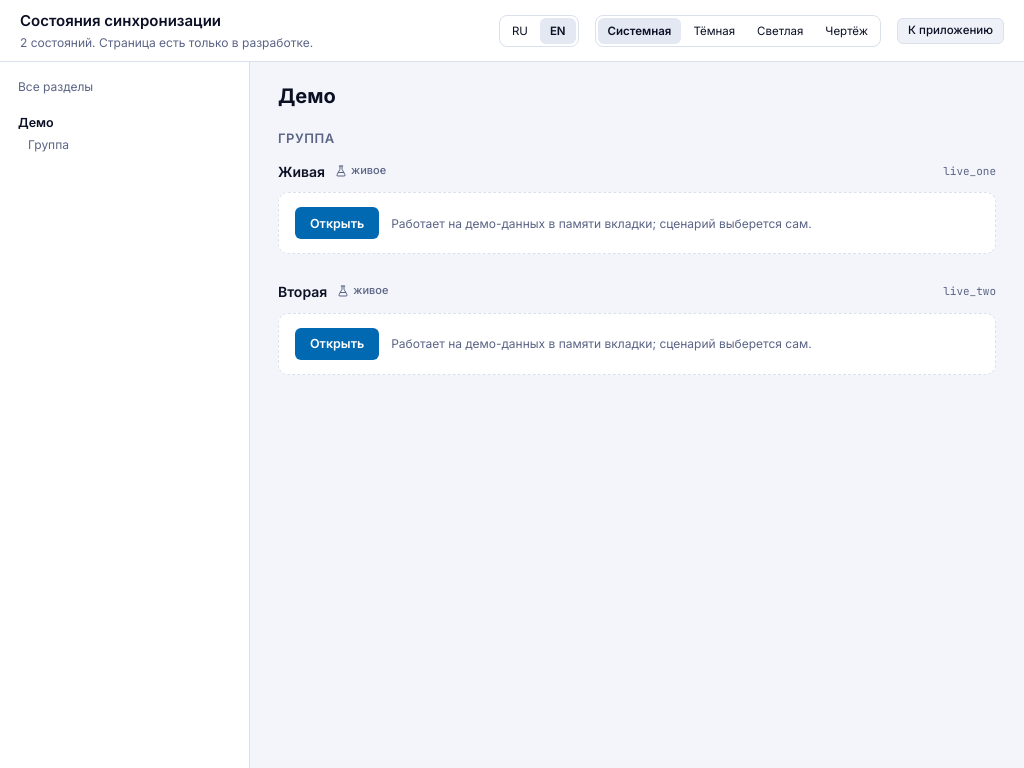
Test case: галерея состояний синхронизации › открывает живую запись по нажатию и ставит демо-сценарий
Expected: the text "Содержимое живой записи" is not shown
Click the button "Открыть" below "Живая": [337, 223] box [295,207,379,239]
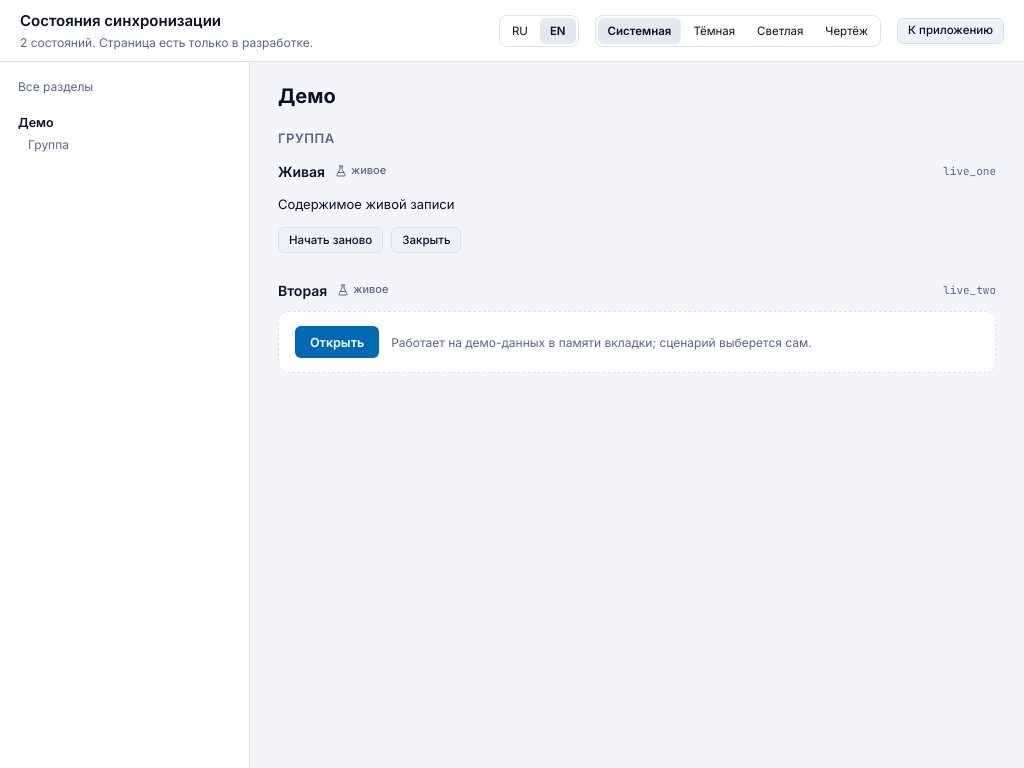
Now the text "Содержимое живой записи" is shown, box [278,196,454,212]
Click the button "Открыть": [337, 342] box [295,326,379,358]
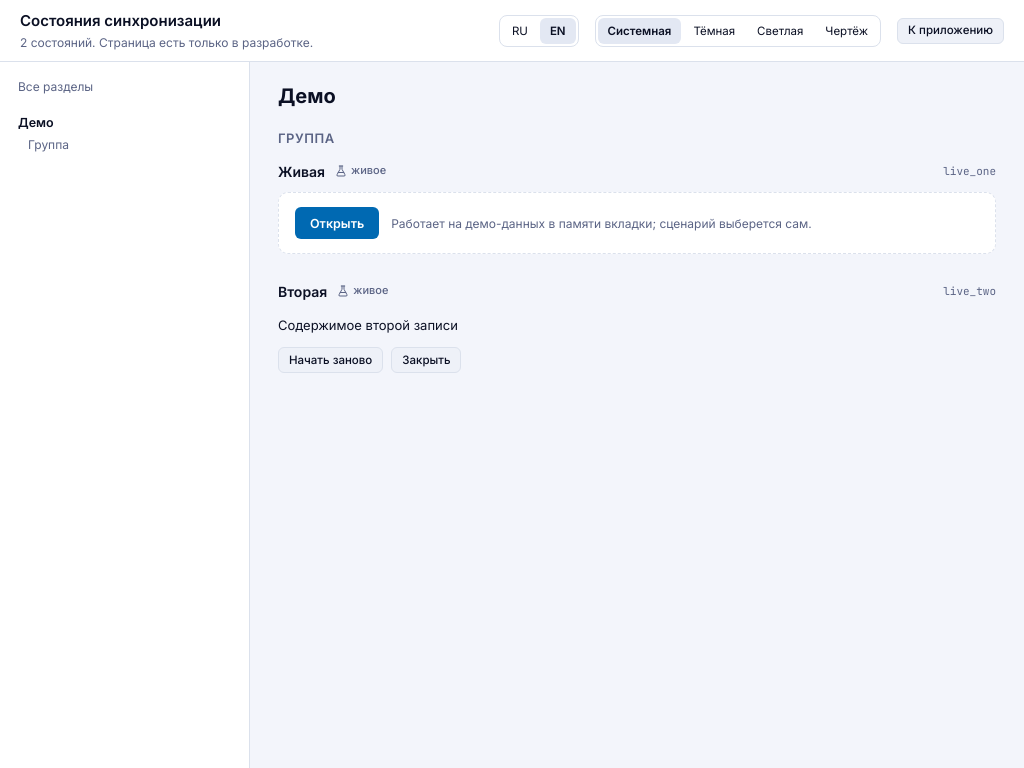
Now the text "Содержимое живой записи" is gone
Now the text "Содержимое второй записи" is shown, box [278,317,458,333]
